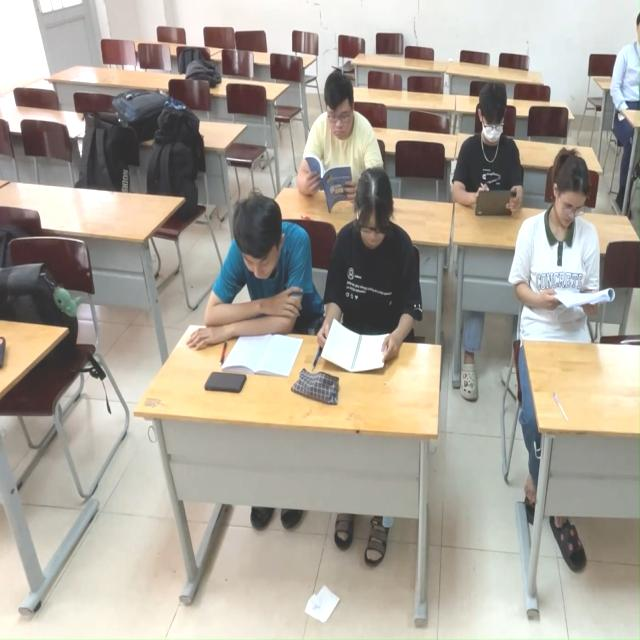read: (512, 126, 632, 399), (187, 185, 325, 370), (313, 173, 433, 380), (456, 79, 533, 224)
